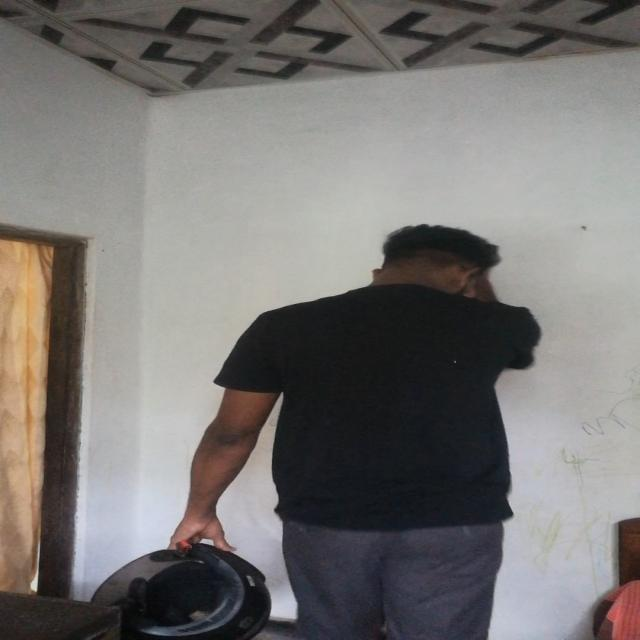Person: (190, 221, 530, 640)
